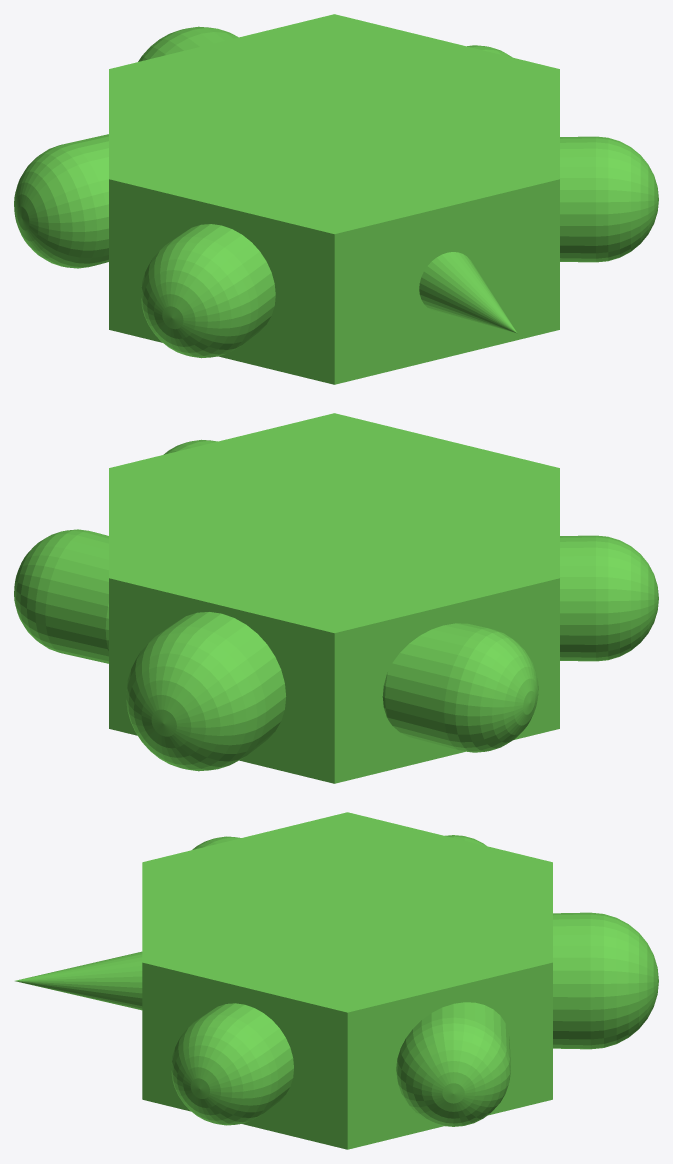
File: Came.fbx
3 views of the same model, one above another, from view 1: azimuth 30°, elevation 25°; view 2: azimuth 150°, elevation 25°; view 3: azimuth 270°, elevation 25° (orthographic). The views are drawn at different scales.
Parts seen in each view (by area): view 1: Body; view 2: Body; view 3: Body.
Boxes of the visible parts, bbox=[...] form: Body: bbox=[14, 14, 658, 384]; Body: bbox=[14, 413, 658, 783]; Body: bbox=[15, 812, 658, 1149].
Size of the model in its own units: 225 by 272 by 63.81.
